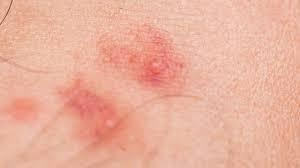Spider: (99, 25, 185, 90)
